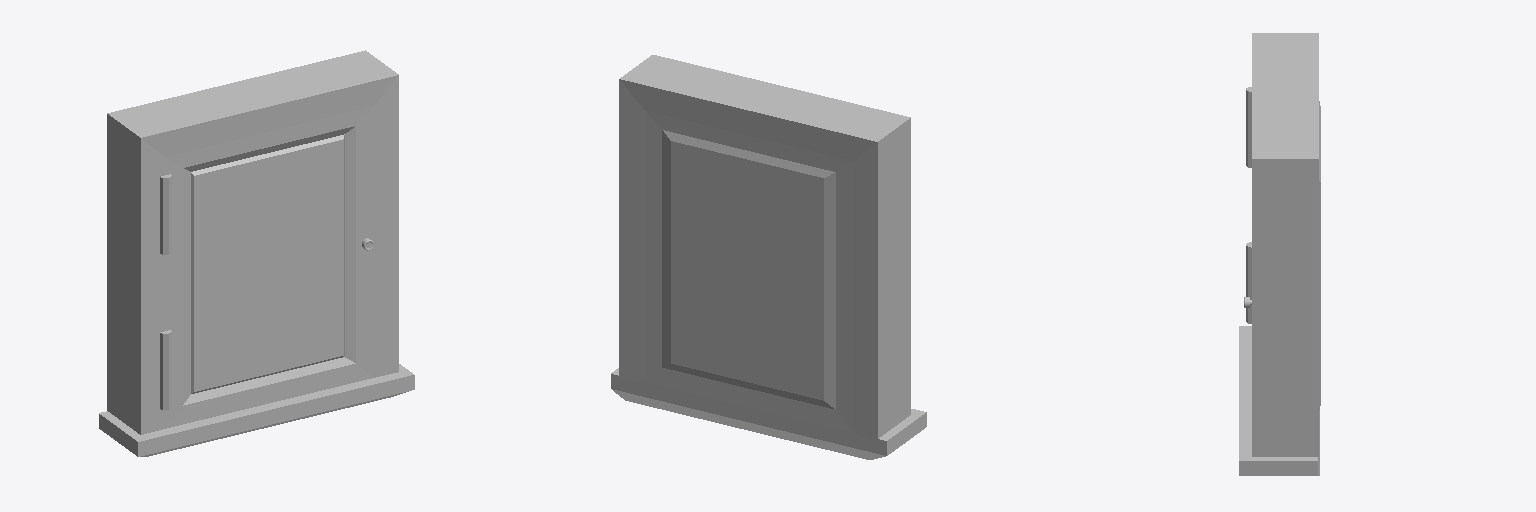
Rendered from mirror texture test 7.obj.
3 views of the same model, side by side, from view 1: azimuth 30°, elevation 25°; view 2: azimuth 150°, elevation 25°; view 3: azimuth 270°, elevation 25° (orthographic).
Visible parts, largest first — view 1: Mirror_Cube; view 2: Mirror_Cube; view 3: Mirror_Cube.
Boxes of the visible parts, x1=… form: Mirror_Cube: x1=99, y1=50, x2=414, y2=456; Mirror_Cube: x1=611, y1=55, x2=926, y2=459; Mirror_Cube: x1=1239, y1=33, x2=1320, y2=475.
Size of the model in its own units: 3.58 by 3.95 by 0.9158.